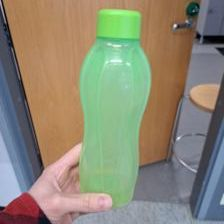bottle: (75, 7, 153, 207)
